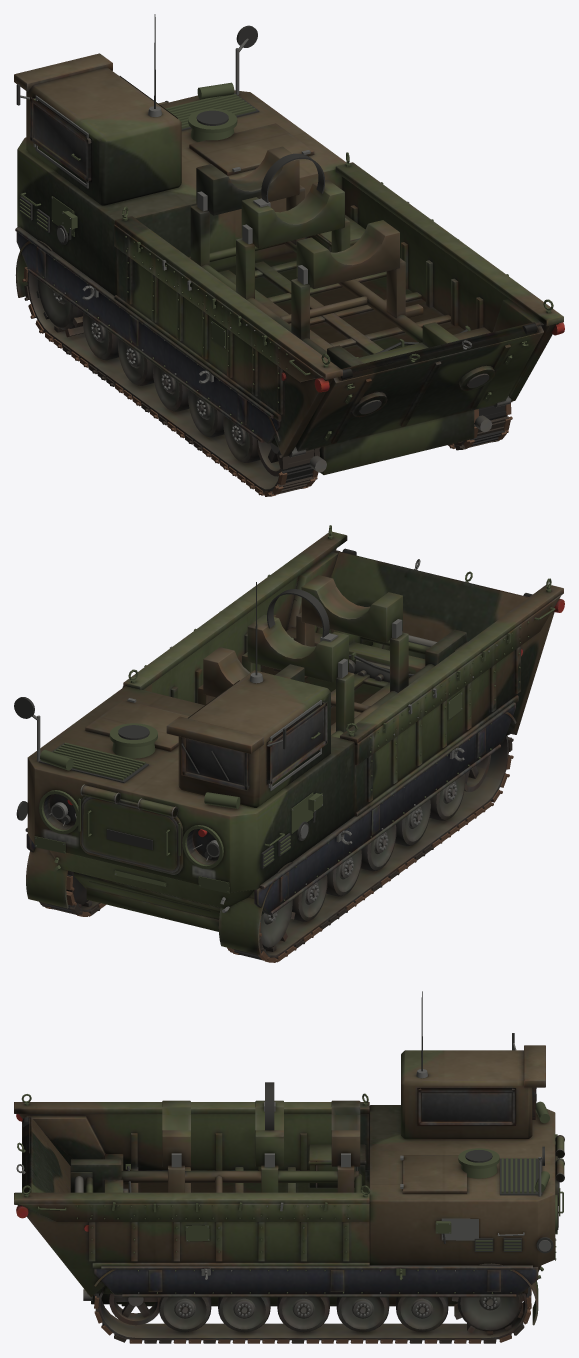
The model's file is l_lance.glb.
3 views of the same model, one above another, from view 1: azimuth 30°, elevation 25°; view 2: azimuth 150°, elevation 25°; view 3: azimuth 270°, elevation 25° (orthographic). The views are drawn at different scales.
Parts seen in each view (by area): view 1: body_hull, erect_boom, body_front, ramp_in, body_run, body_skirt, body_hw, body_tread, ramp_out, erect_hw; view 2: body_hull, body_front, body_hw, erect_boom, body_run, body_skirt, ramp_out, body_tread, erect_hw; view 3: body_hull, body_front, body_run, body_skirt, erect_boom, body_hw, ramp_out, body_tread, erect_hw.
Part boxes in pixels (x1,y1,x2,y2): body_hull: [14, 53, 564, 474]; erect_boom: [189, 146, 423, 358]; body_front: [17, 90, 346, 295]; ramp_in: [289, 322, 543, 457]; body_run: [27, 268, 507, 491]; body_skirt: [15, 227, 280, 443]; body_hw: [16, 14, 553, 441]; body_tread: [22, 267, 512, 496]; ramp_out: [338, 322, 538, 380]; erect_hw: [197, 153, 325, 284]; body_hull: [26, 531, 564, 955]; body_front: [27, 686, 354, 911]; body_hw: [14, 525, 555, 921]; erect_boom: [197, 575, 467, 737]; body_run: [66, 735, 508, 957]; body_skirt: [25, 702, 515, 915]; ramp_out: [316, 548, 532, 641]; body_tread: [39, 737, 513, 962]; erect_hw: [267, 589, 402, 677]; body_hull: [14, 1045, 564, 1325]; body_front: [369, 1105, 555, 1271]; body_run: [98, 1285, 527, 1340]; body_skirt: [94, 1265, 538, 1297]; erect_boom: [70, 1100, 362, 1192]; body_hw: [21, 991, 563, 1316]; ramp_out: [22, 1117, 70, 1192]; body_tread: [94, 1286, 531, 1343]; erect_hw: [171, 1082, 350, 1167].
Size of the model in its own units: 3.04 by 3.72 by 6.51.
Materials: 13 (6 with a texture image).
